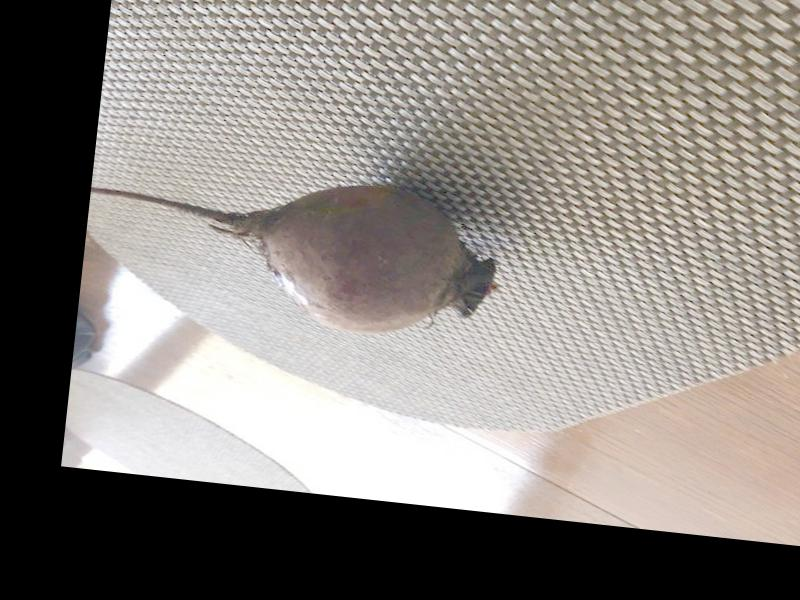Beet: (83, 157, 503, 345)
